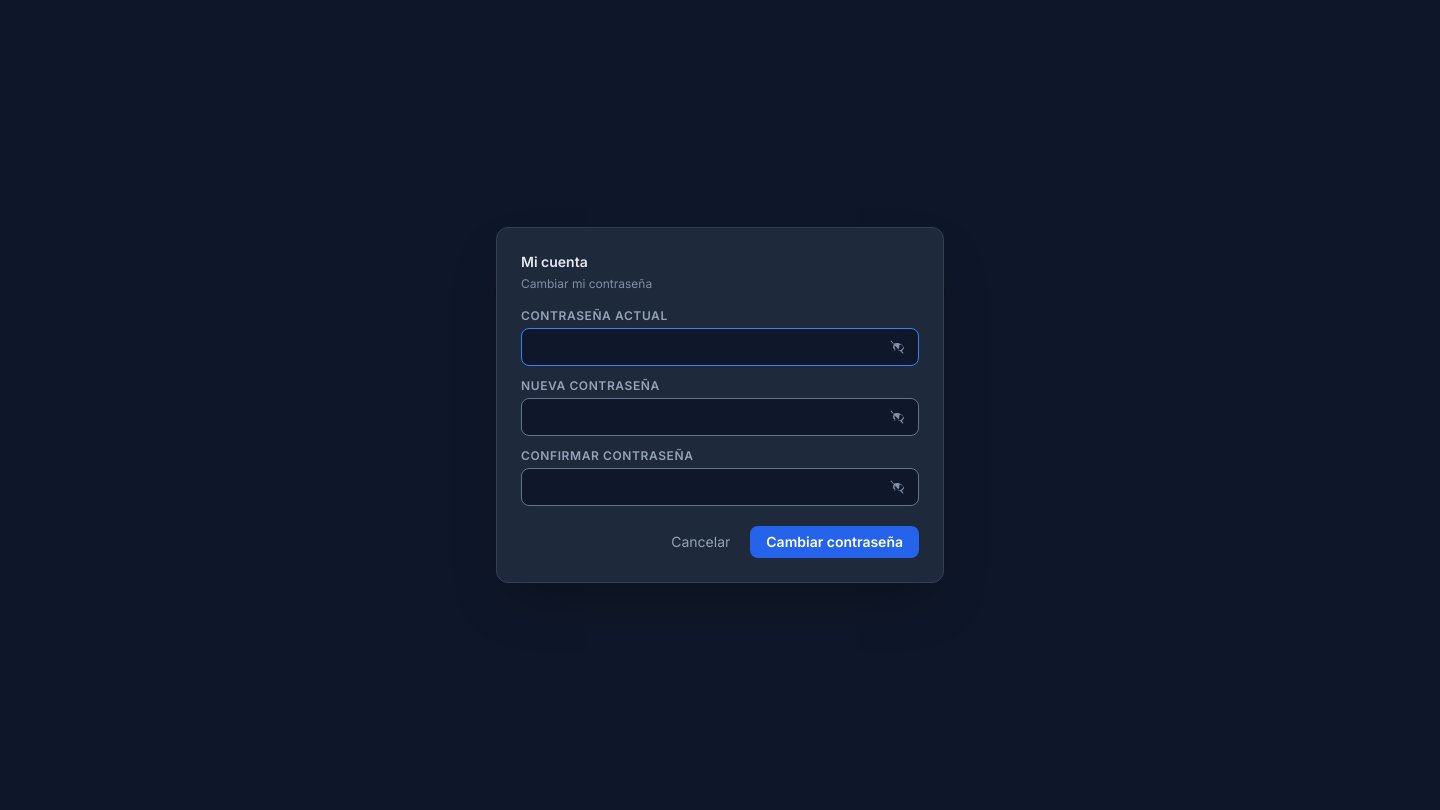
Test case: MiCuentaModal › la contraseña actual incorrecta se muestra traducida
Type "equivocada" into the password field labelled "Contraseña actual".
click(720, 347); type("equivocada")  # box [521,328,919,366]
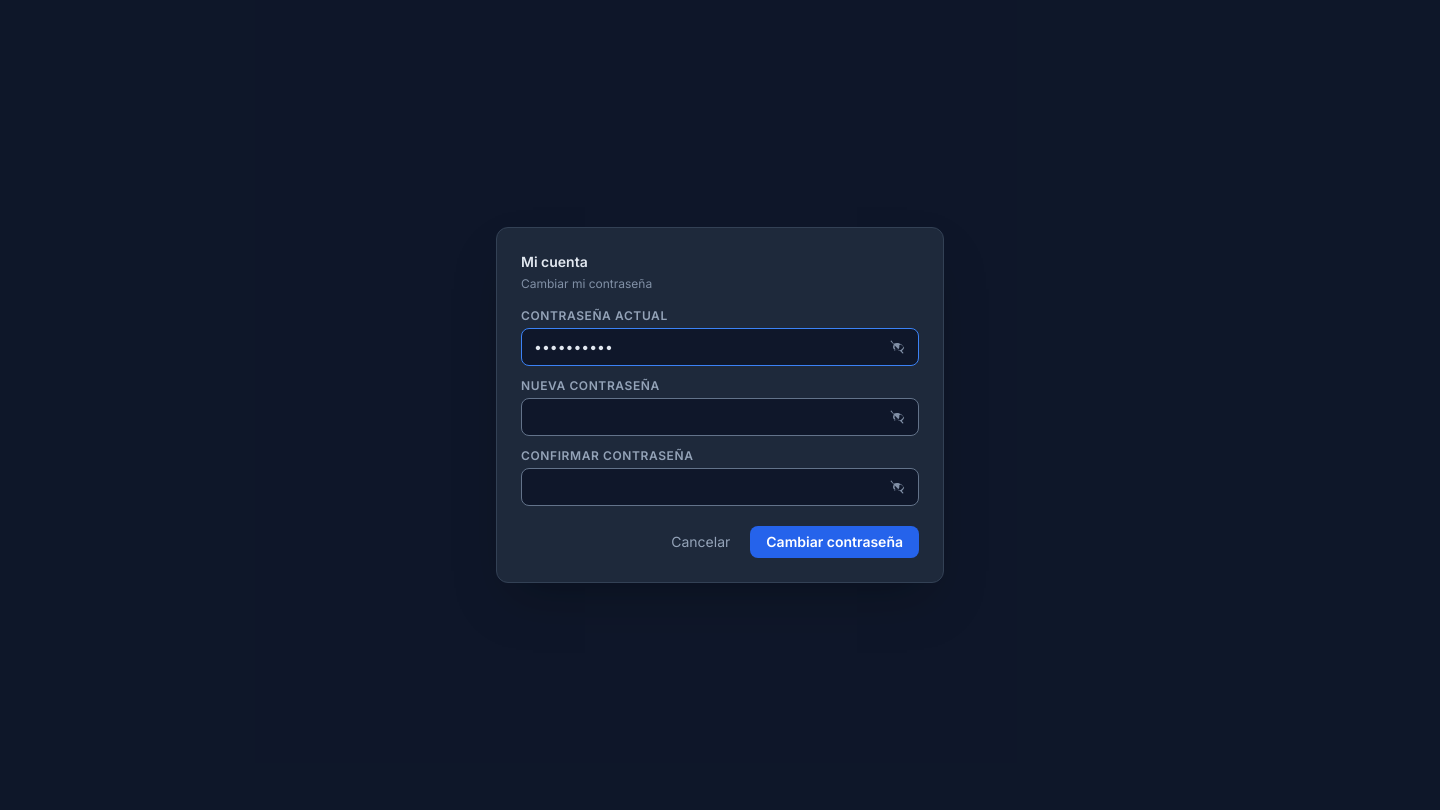
Type "nueva-clave-9" into the password field labelled "Nueva contraseña".
click(720, 417); type("nueva-clave-9")  # box [521,398,919,436]
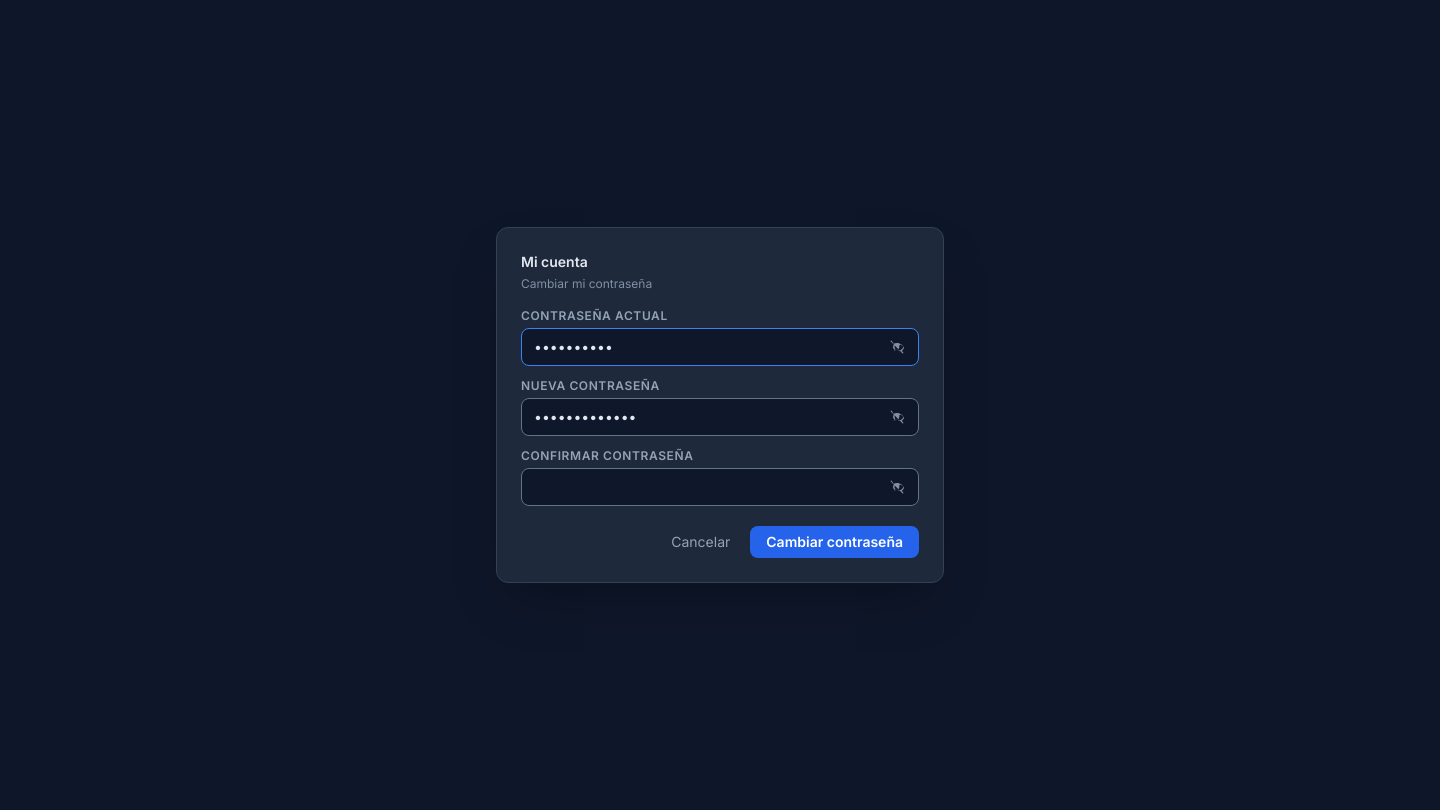
Type "nueva-clave-9" into the password field labelled "Confirmar contraseña".
click(720, 487); type("nueva-clave-9")  # box [521,468,919,506]
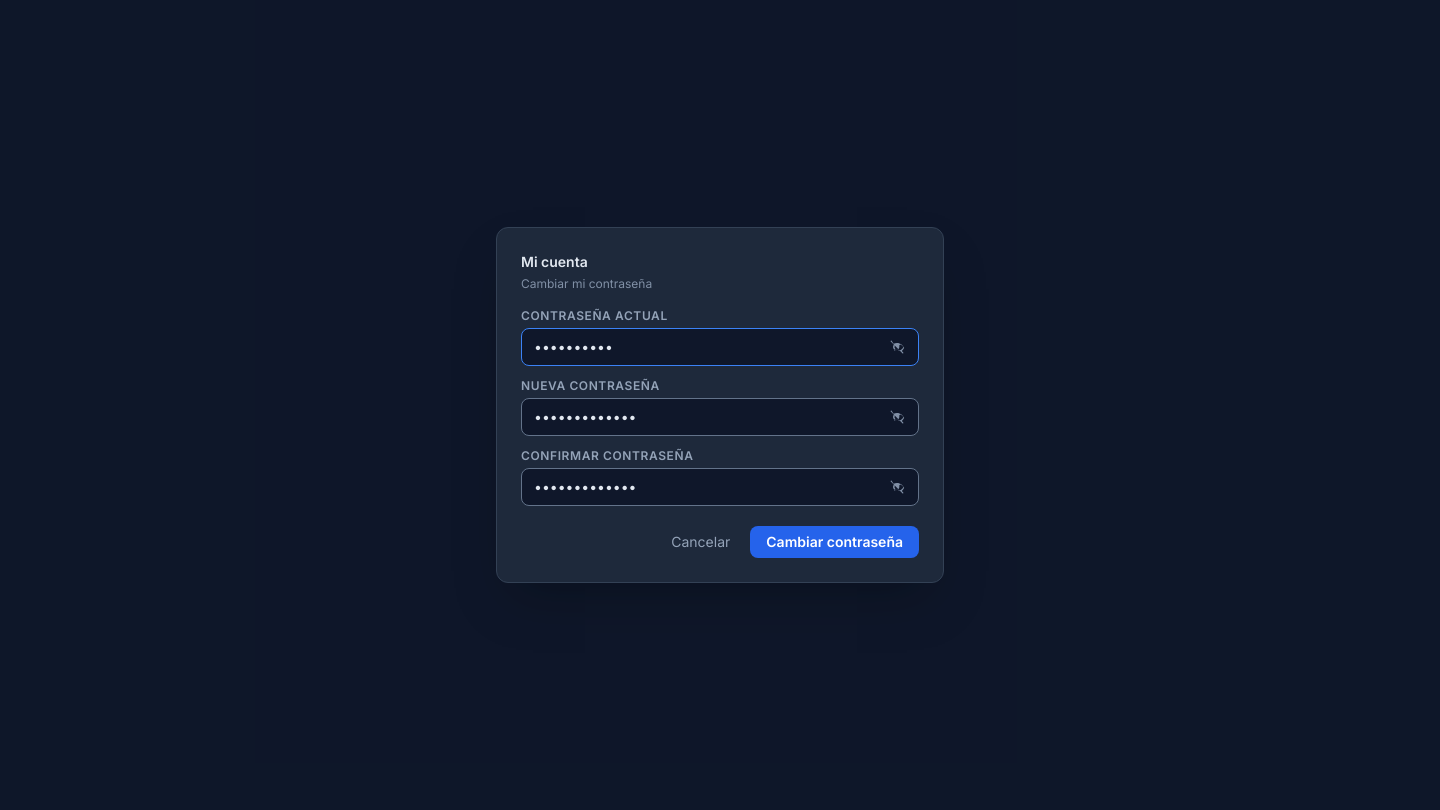
Click the button "Cambiar contraseña".
click(835, 542)  # box [750,526,919,558]
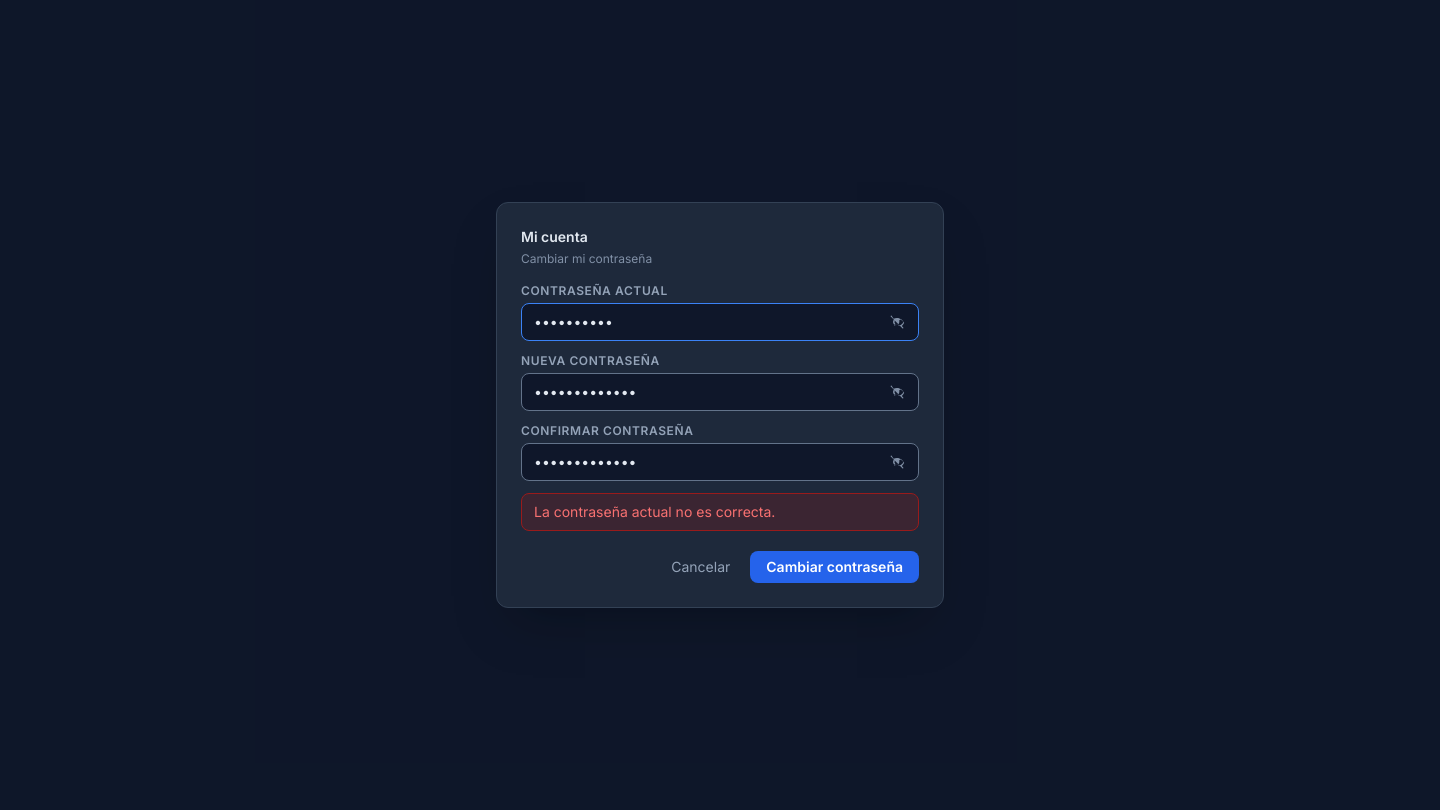
Check: the text "La contraseña actual no es correcta." is shown, box [521,493,919,531]
